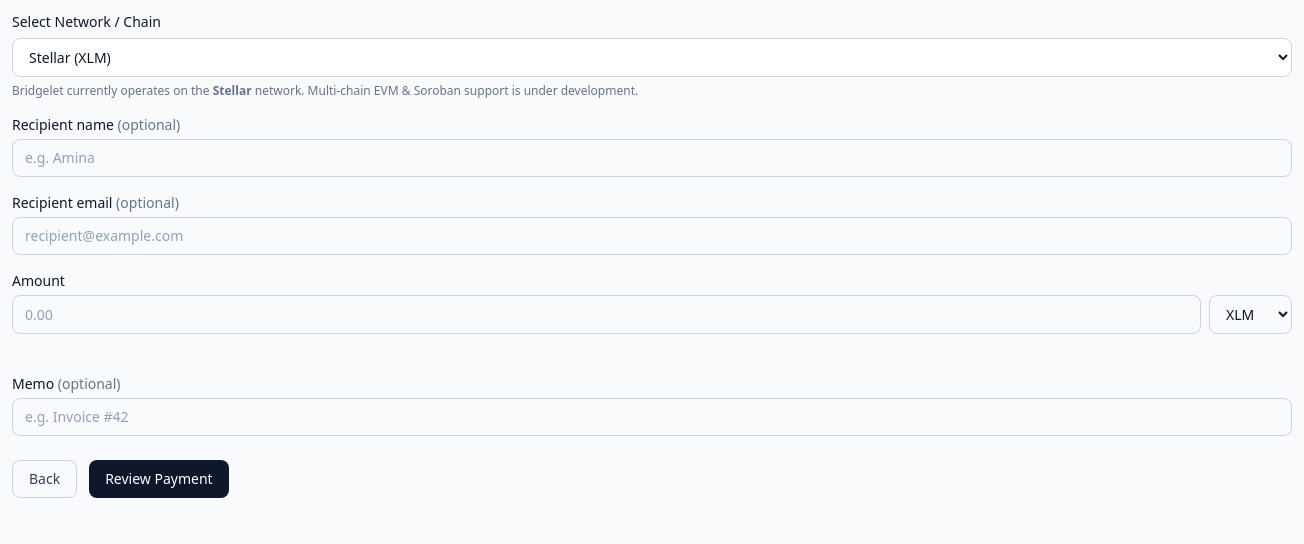
DetailsStep › blocks submission and shows an error when amount is missing
The width and height of the screenshot is (1304, 544).
Step 1. Click the button "Review Payment" → (159, 479), box x1=89 y1=460 x2=229 y2=498
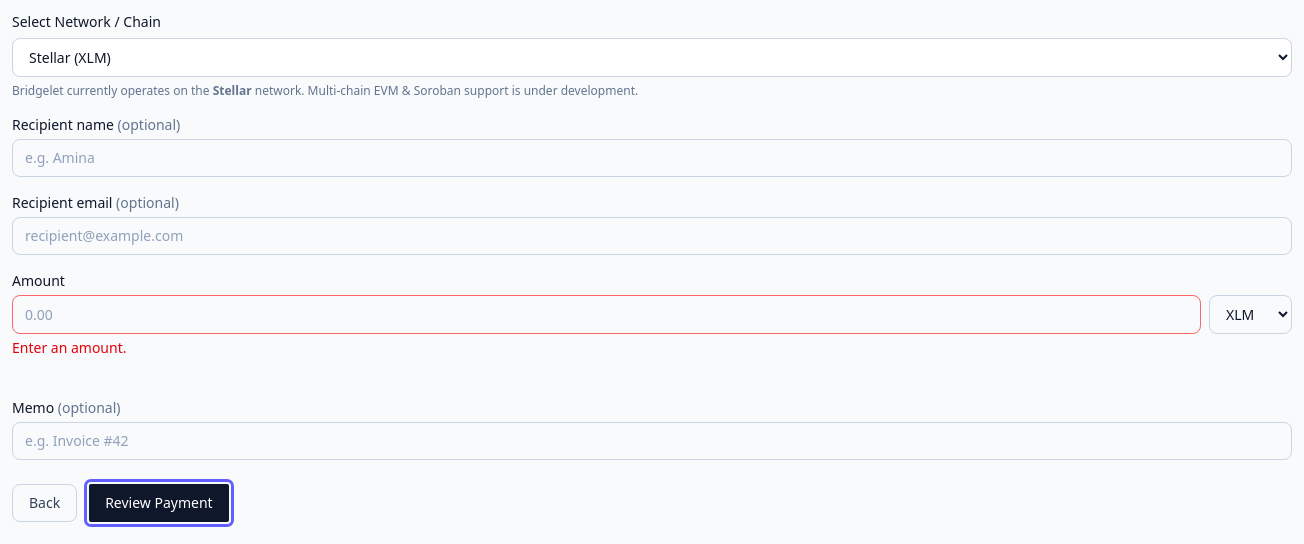
Check: the message shows "Enter an amount", box x1=12 y1=338 x2=126 y2=357
